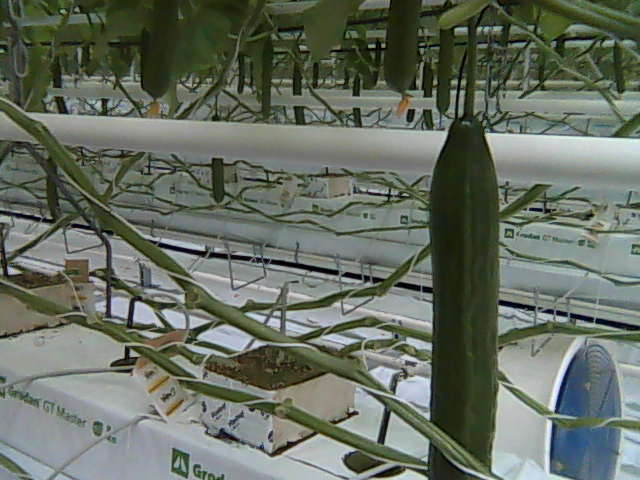concombre: (426, 104, 502, 480)
